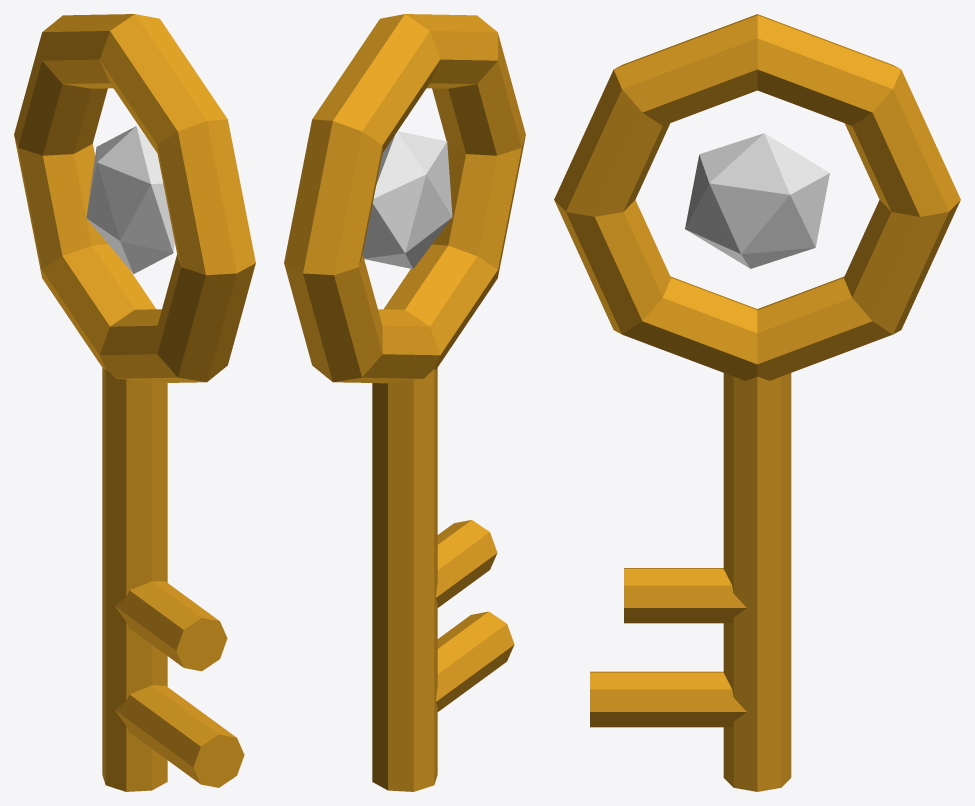
The model's file is key.fbx.
3 renders of one model, left to right at view 1: azimuth 30°, elevation 25°; view 2: azimuth 150°, elevation 25°; view 3: azimuth 270°, elevation 25°, orthographic.
Visible parts, largest first — view 1: Torus; view 2: Torus; view 3: Torus.
Boxes of the visible parts, left/top/right/bottom form: Torus: left=14, top=14, right=255, bottom=791; Torus: left=284, top=14, right=525, bottom=791; Torus: left=554, top=14, right=960, bottom=791.
Bounding box in the file's own units: 13.37 × 138 × 66.83.
